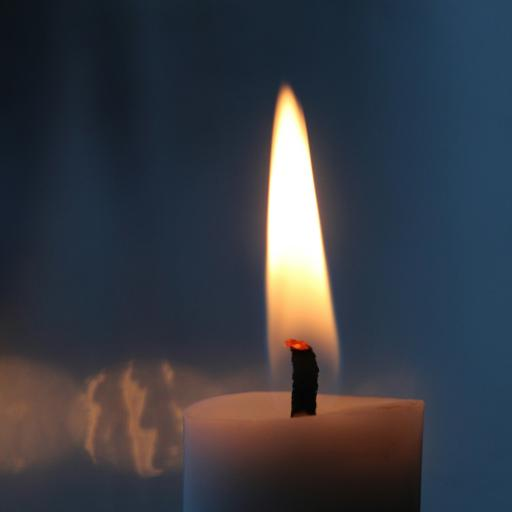candlelight: (264, 85, 344, 405)
